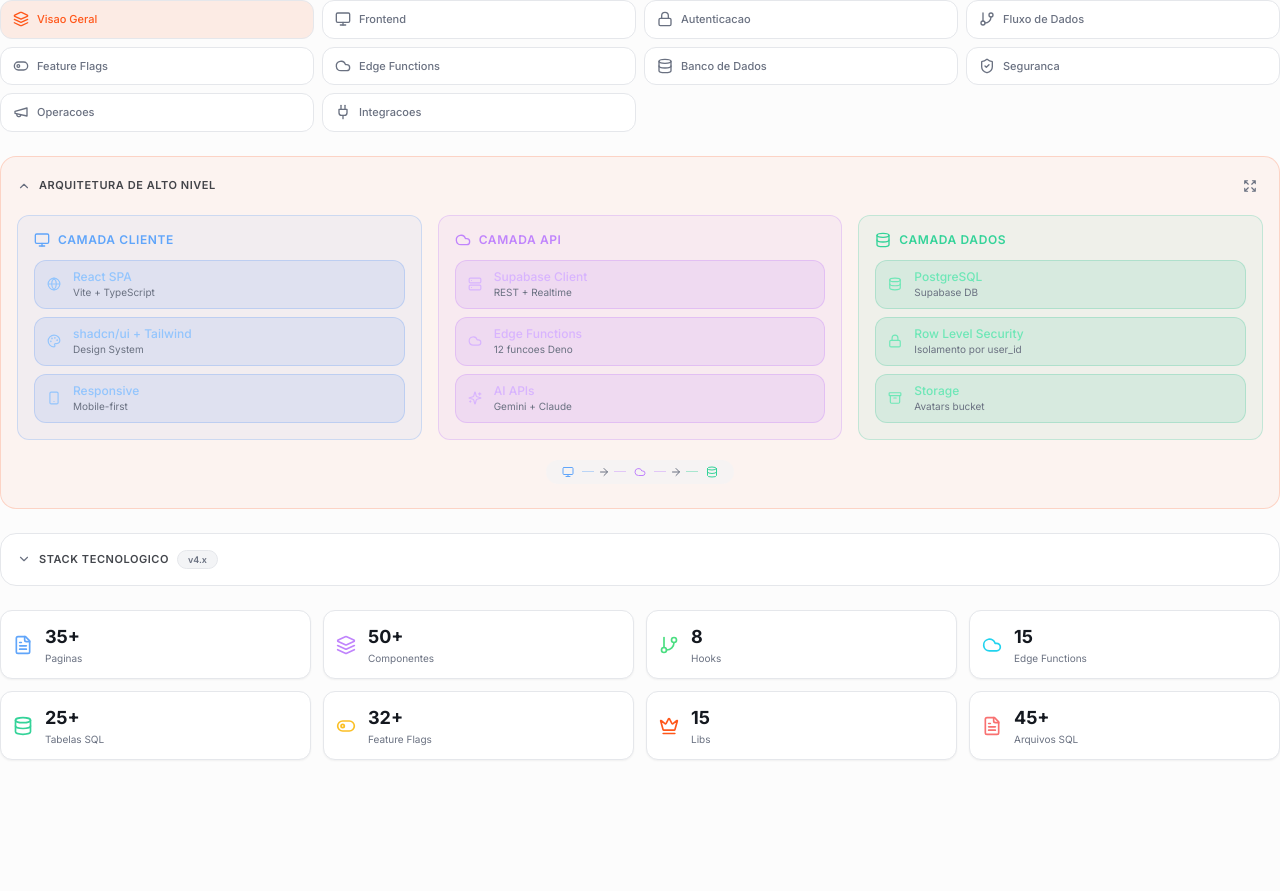
Test: AdminArchitectureTab › switches to Database section
Click the button "Banco de Dados" at [724, 66], box left=644, top=46, right=958, bottom=85
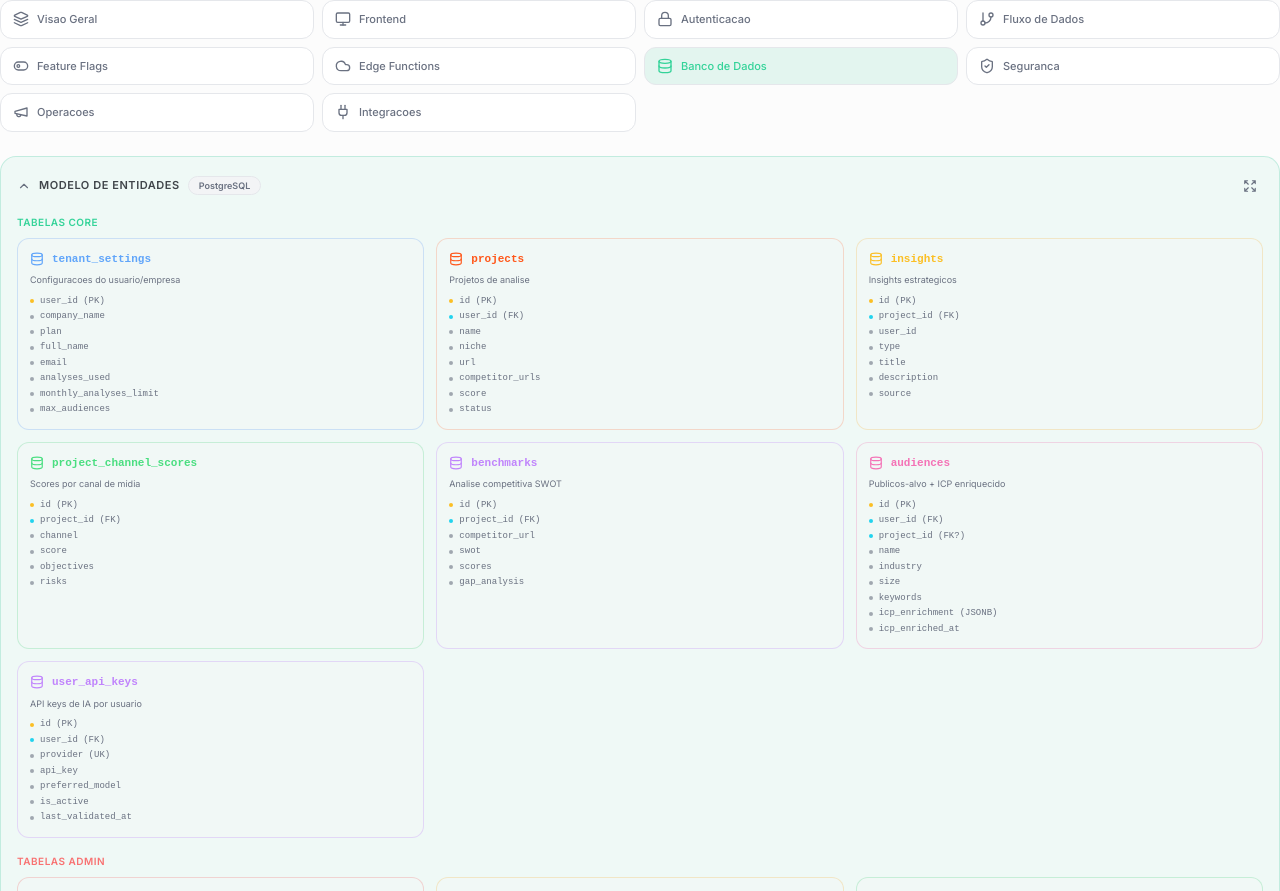
Expected: the text "Modelo de Entidades" is shown, left=39, top=177, right=180, bottom=194
Expected: the text "Tabelas Core" is shown, left=17, top=216, right=98, bottom=228
